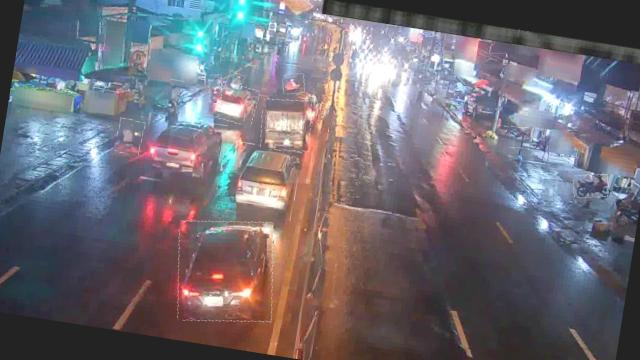Bike: (571, 172, 610, 202), (114, 118, 144, 155), (493, 124, 532, 150), (163, 79, 184, 121), (280, 72, 306, 96), (206, 73, 224, 104), (223, 72, 244, 98)
Car: (168, 211, 282, 330), (140, 112, 228, 190), (225, 141, 301, 221), (214, 81, 260, 125)
Truck: (257, 96, 315, 154)
